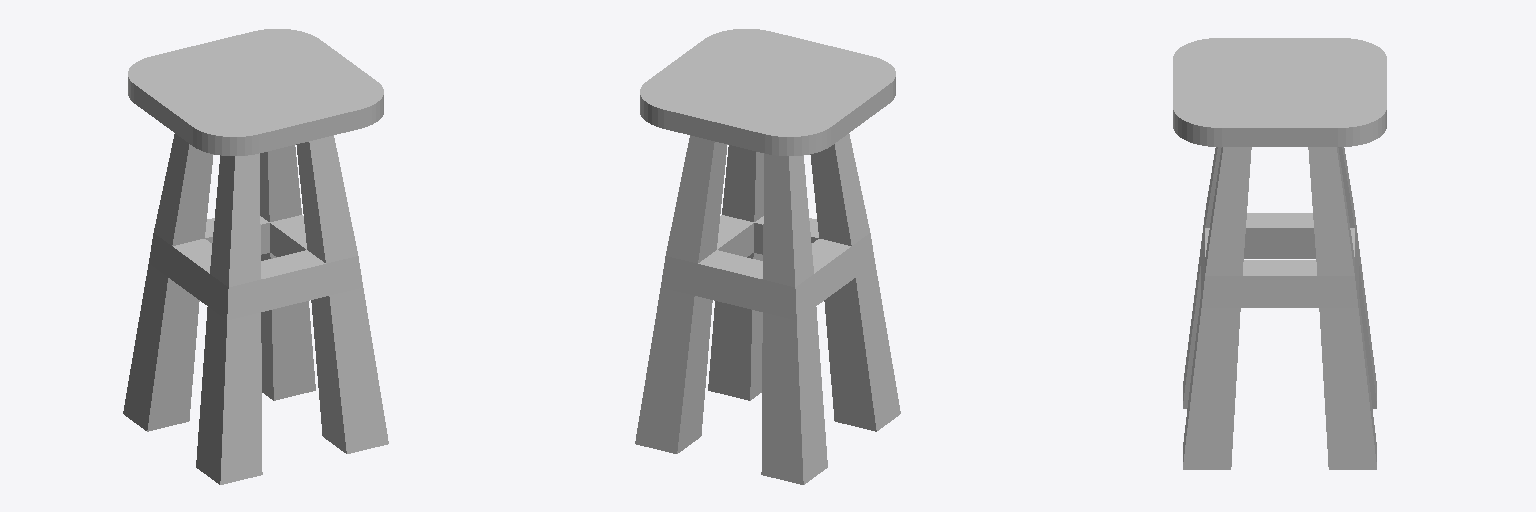
Rendered from stool.obj.
3 views of the same model, side by side, from view 1: azimuth 30°, elevation 25°; view 2: azimuth 150°, elevation 25°; view 3: azimuth 270°, elevation 25° (orthographic).
Visible parts, largest first — view 1: Cube; view 2: Cube; view 3: Cube.
Part boxes in pixels (x1,y1,x2,y2): Cube: (123,29,388,484); Cube: (635,29,900,484); Cube: (1173,38,1386,469).
Size of the model in its own units: 0.4447 by 0.7947 by 0.4447.